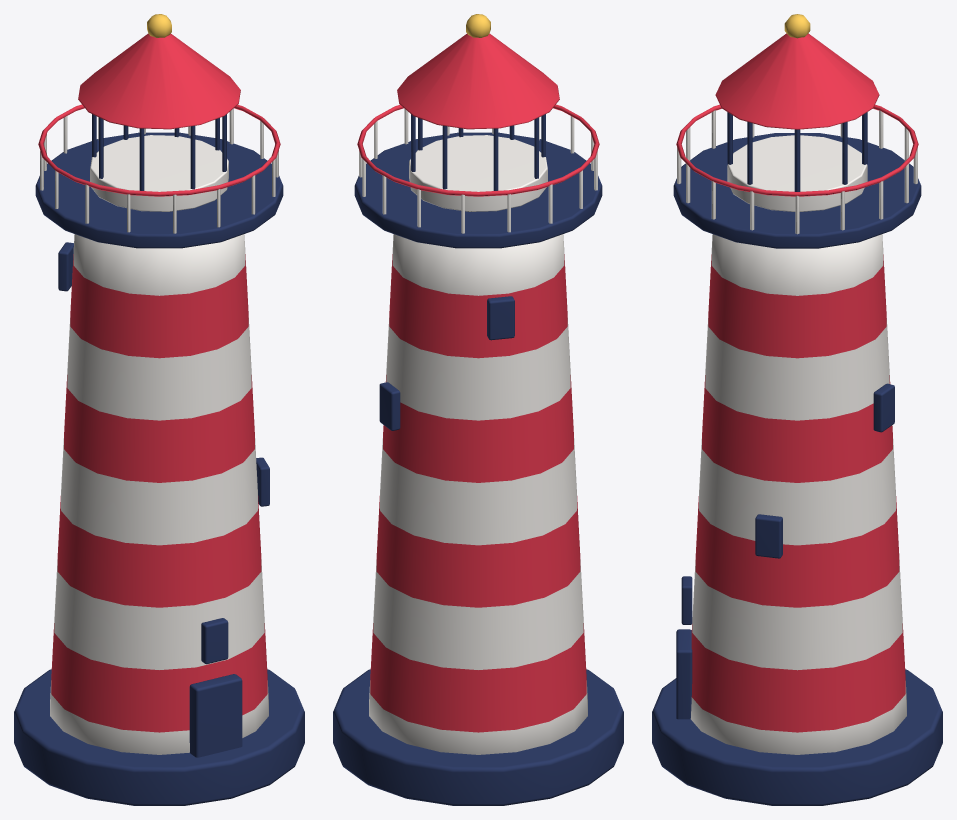
Rendered from sky_beacon.glb.
3 views of the same model, side by side, from view 1: azimuth 30°, elevation 25°; view 2: azimuth 150°, elevation 25°; view 3: azimuth 270°, elevation 25° (orthographic).
Visible parts, largest first — view 1: Beacon; view 2: Beacon; view 3: Beacon.
Part boxes in pixels (x1,y1,x2,y2): Beacon: [14, 14, 304, 805]; Beacon: [333, 14, 623, 805]; Beacon: [652, 14, 942, 805].
Size of the model in its own units: 5.32 by 15 by 5.4.
